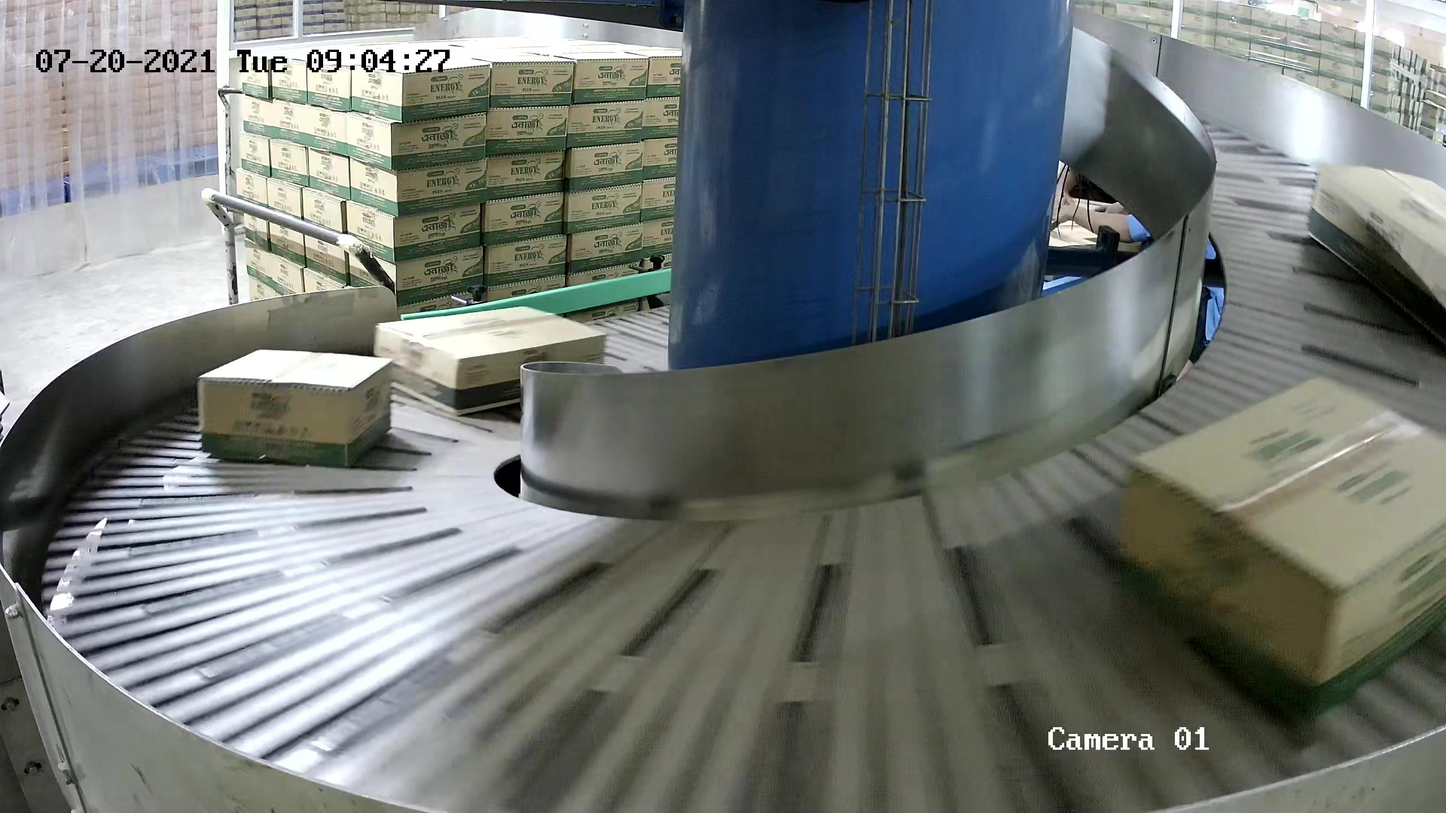Box: (1110, 372, 1446, 725), (373, 305, 610, 418), (1304, 163, 1446, 344), (198, 348, 394, 467)
